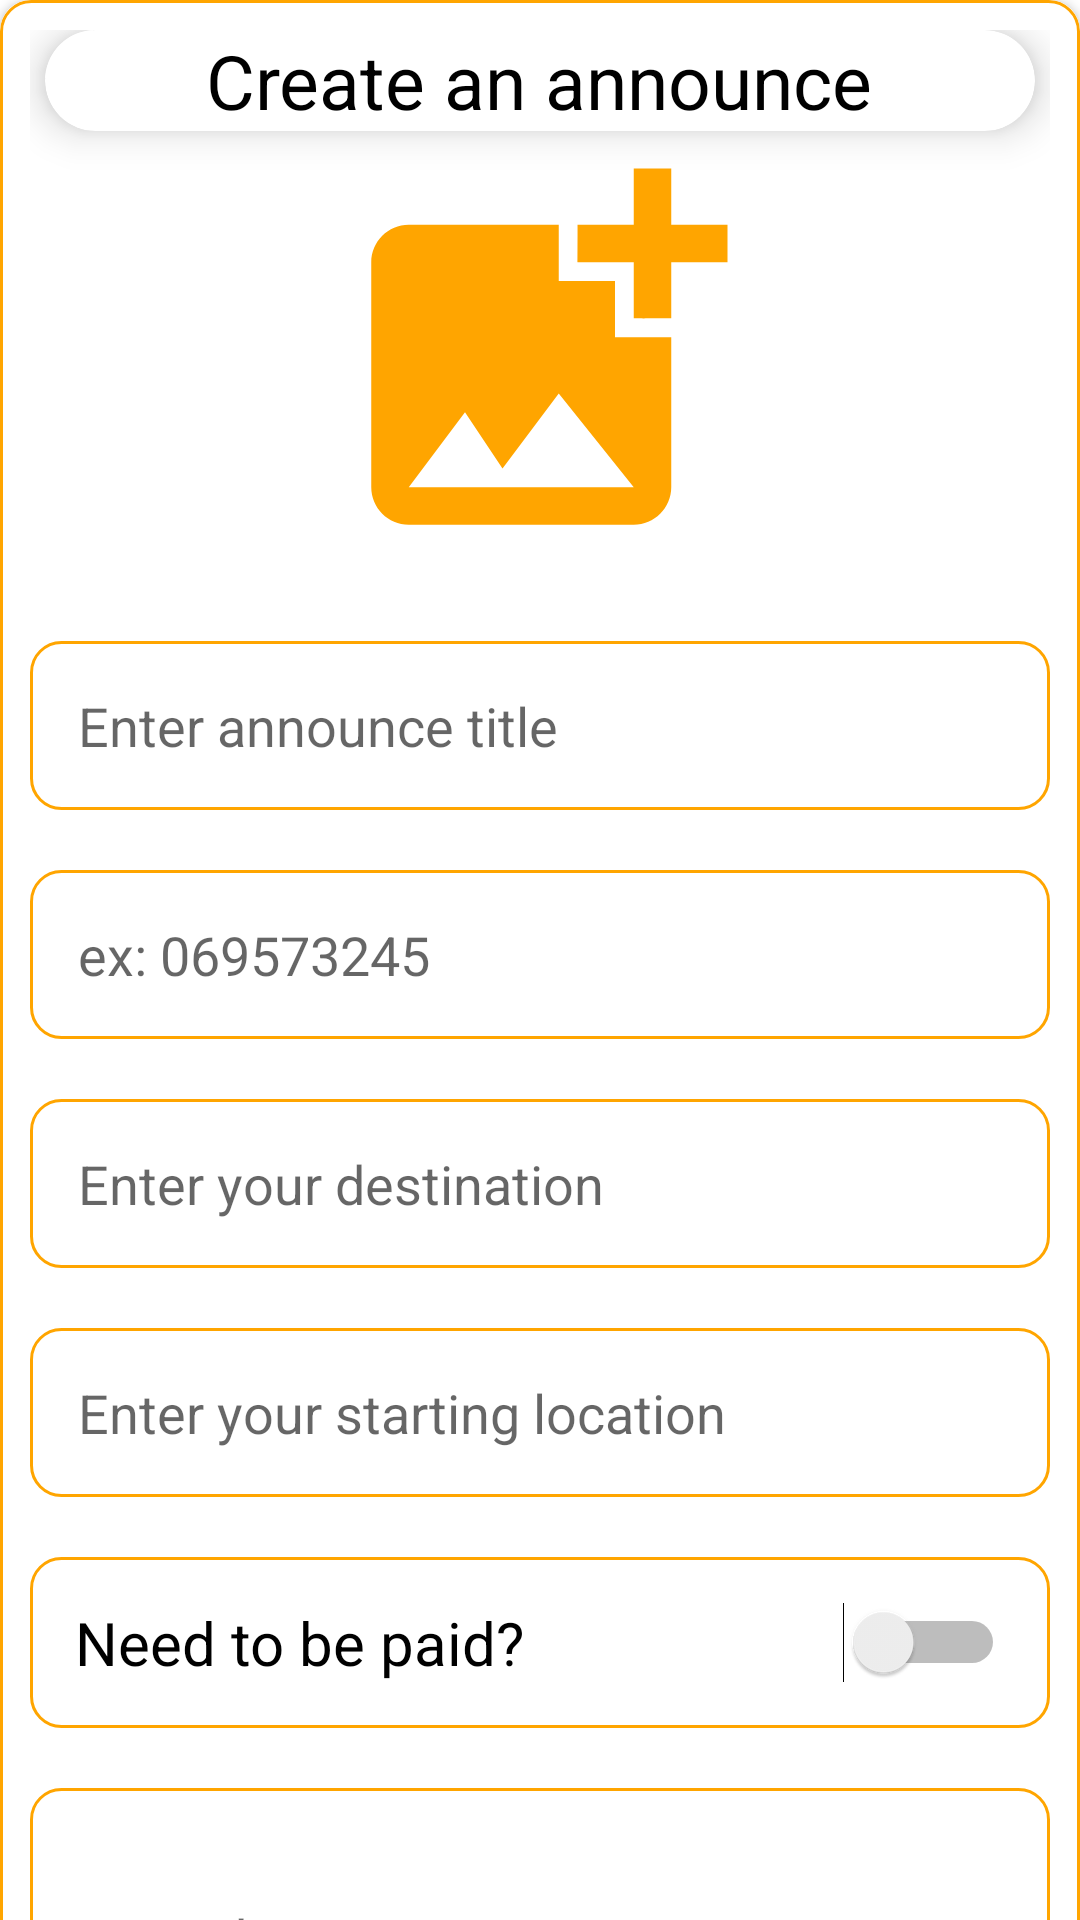

Where to tap for icons on this 1080 × 1920 app screen, as (x=x, y=y):
addimage: (x=549, y=346)
